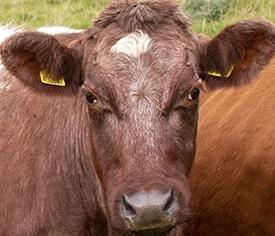muzzles: (106, 186, 196, 233)
